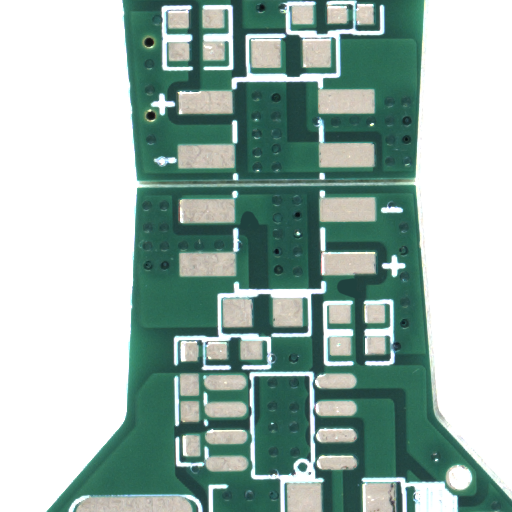Mouse_bite: (347, 288, 366, 307), (249, 218, 268, 234)
